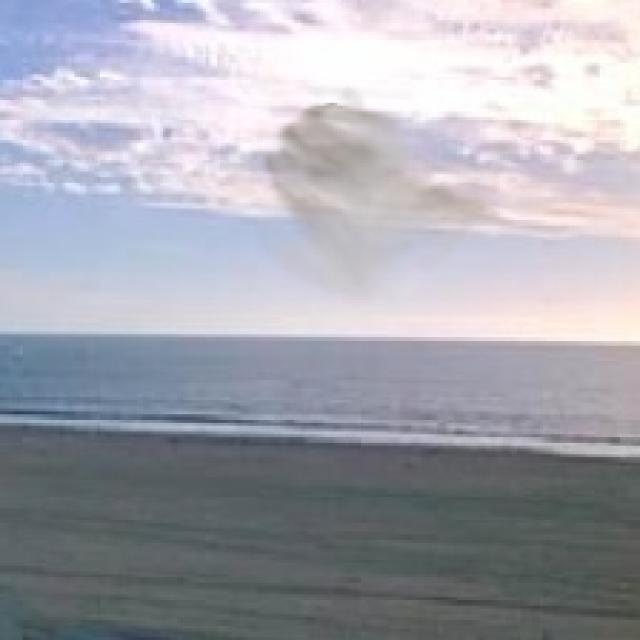Smoke: (240, 82, 506, 308)
